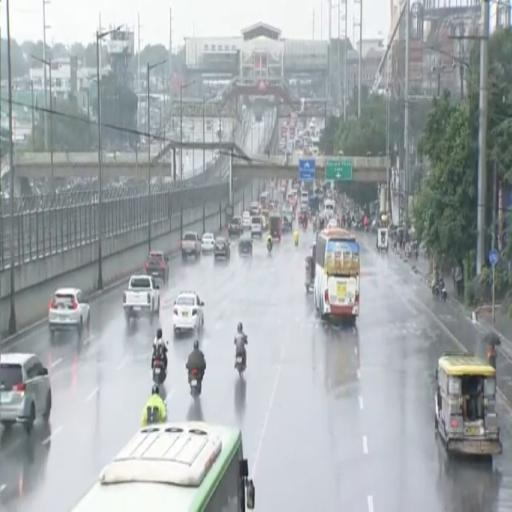bus: (72, 422, 254, 511), (314, 229, 360, 325), (259, 191, 269, 209)
car: (0, 354, 52, 434), (48, 288, 90, 337), (173, 292, 204, 334), (145, 251, 169, 282), (214, 237, 230, 259), (239, 234, 253, 254), (228, 217, 242, 235), (251, 216, 263, 237), (202, 233, 215, 252), (243, 212, 251, 229), (326, 218, 338, 228)
jeepney: (435, 354, 502, 455)
motorcycle: (189, 369, 201, 398), (153, 359, 166, 385), (432, 283, 448, 302), (236, 352, 246, 377), (236, 356, 245, 377), (438, 283, 447, 301), (267, 240, 272, 253), (302, 219, 307, 230), (294, 238, 298, 247)
truck: (123, 275, 160, 323), (180, 232, 201, 260)
